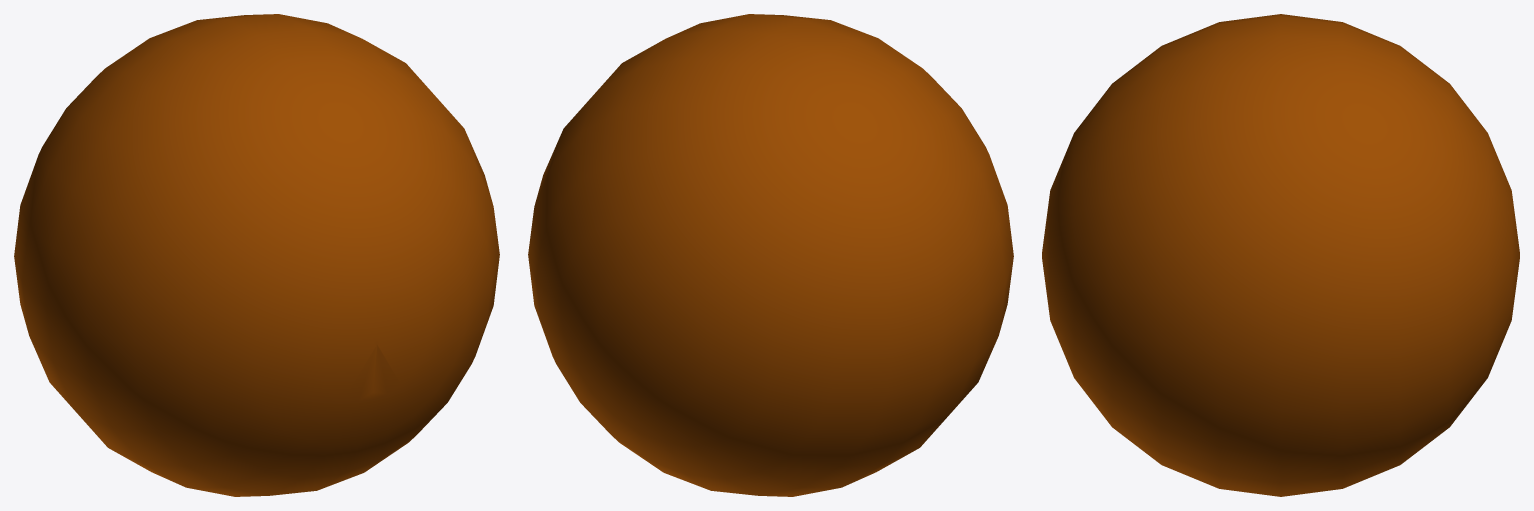
Rendered from original-1.obj.
3 renders of one model, left to right at view 1: azimuth 30°, elevation 25°; view 2: azimuth 150°, elevation 25°; view 3: azimuth 270°, elevation 25°, orthographic.
Parts seen in each view (by area): view 1: #ID133; view 2: #ID133; view 3: #ID133.
Part boxes in pixels (box(x1,y1,x2,y2)): #ID133: box(14, 14, 499, 496); #ID133: box(528, 14, 1013, 496); #ID133: box(1042, 14, 1519, 496).
Size of the model in its own units: 0.21 by 0.21 by 0.2069.
